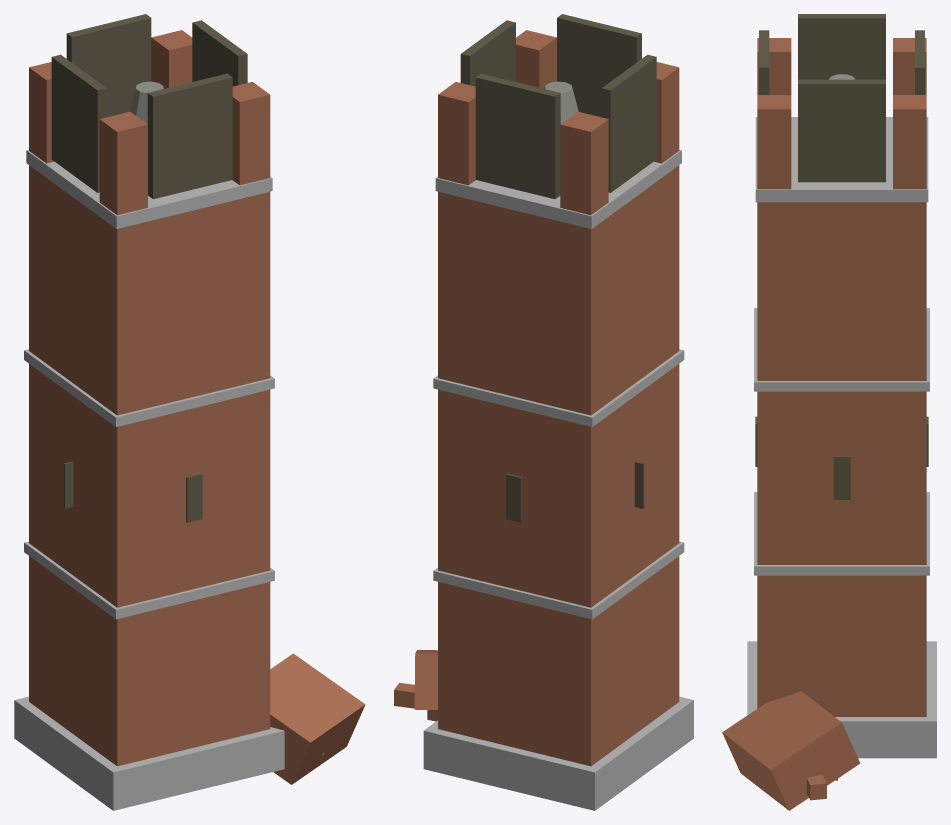
Rendered from SM_Campanario_v3_Danado_LOD0.fbx.
3 renders of one model, left to right at view 1: azimuth 30°, elevation 25°; view 2: azimuth 150°, elevation 25°; view 3: azimuth 270°, elevation 25°, orthographic. The views are drawn at different scales.
Parts seen in each view (by area): view 1: SM_pueblo_valenciano_v23_LOD0; view 2: SM_pueblo_valenciano_v23_LOD0; view 3: SM_pueblo_valenciano_v23_LOD0.
Part boxes in pixels (<box>): SM_pueblo_valenciano_v23_LOD0: <box>14,14,365,810</box>; SM_pueblo_valenciano_v23_LOD0: <box>394,14,693,810</box>; SM_pueblo_valenciano_v23_LOD0: <box>722,14,936,810</box>.
Bounding box in the file's own units: 8.64 × 22.24 × 6.34.
